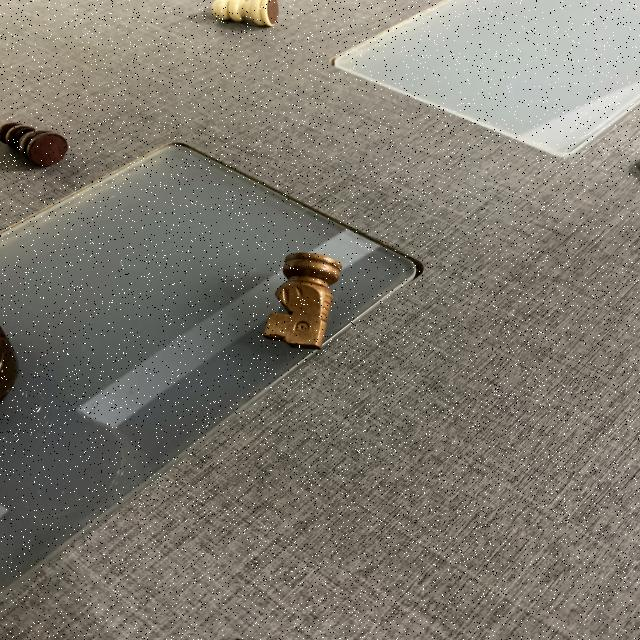Black-Knight: (260, 250, 344, 353)
Black-Pawn: (0, 120, 74, 169)
White-Pawn: (210, 0, 282, 28)
